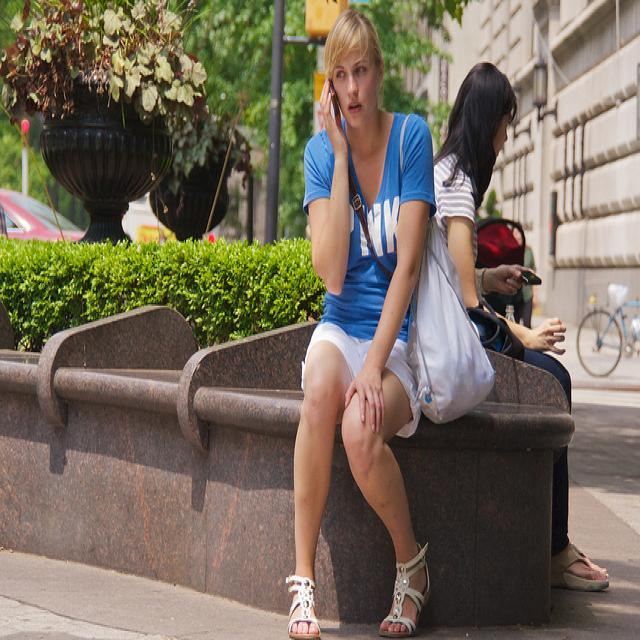Vehicle: (1, 190, 83, 240)
